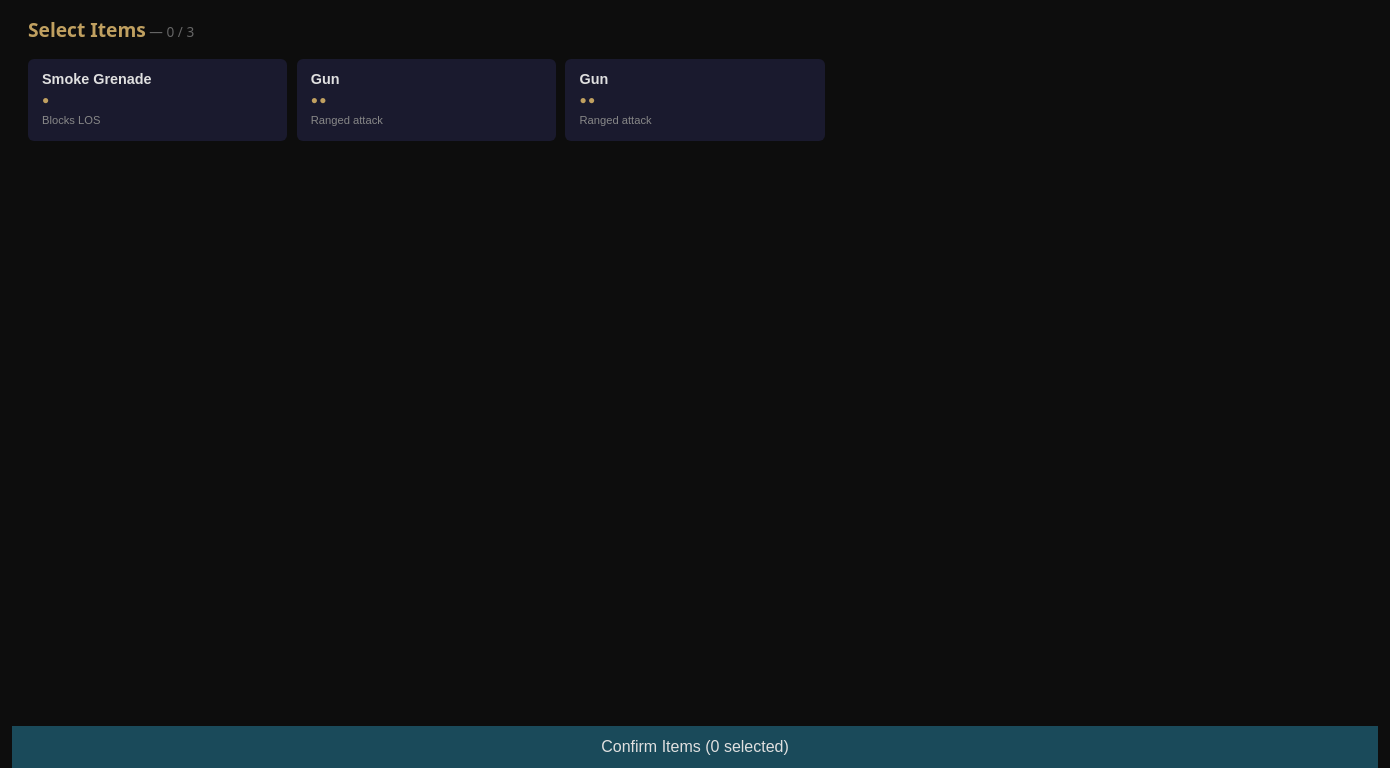
Test: SetupView › selecting an item increments the count display
Expected: the text "— 0 / 3" is shown, [146,22,194,41]
Click the button "Smoke Grenade ● Blocks LOS" at (158, 100), box [28,59,287,141]
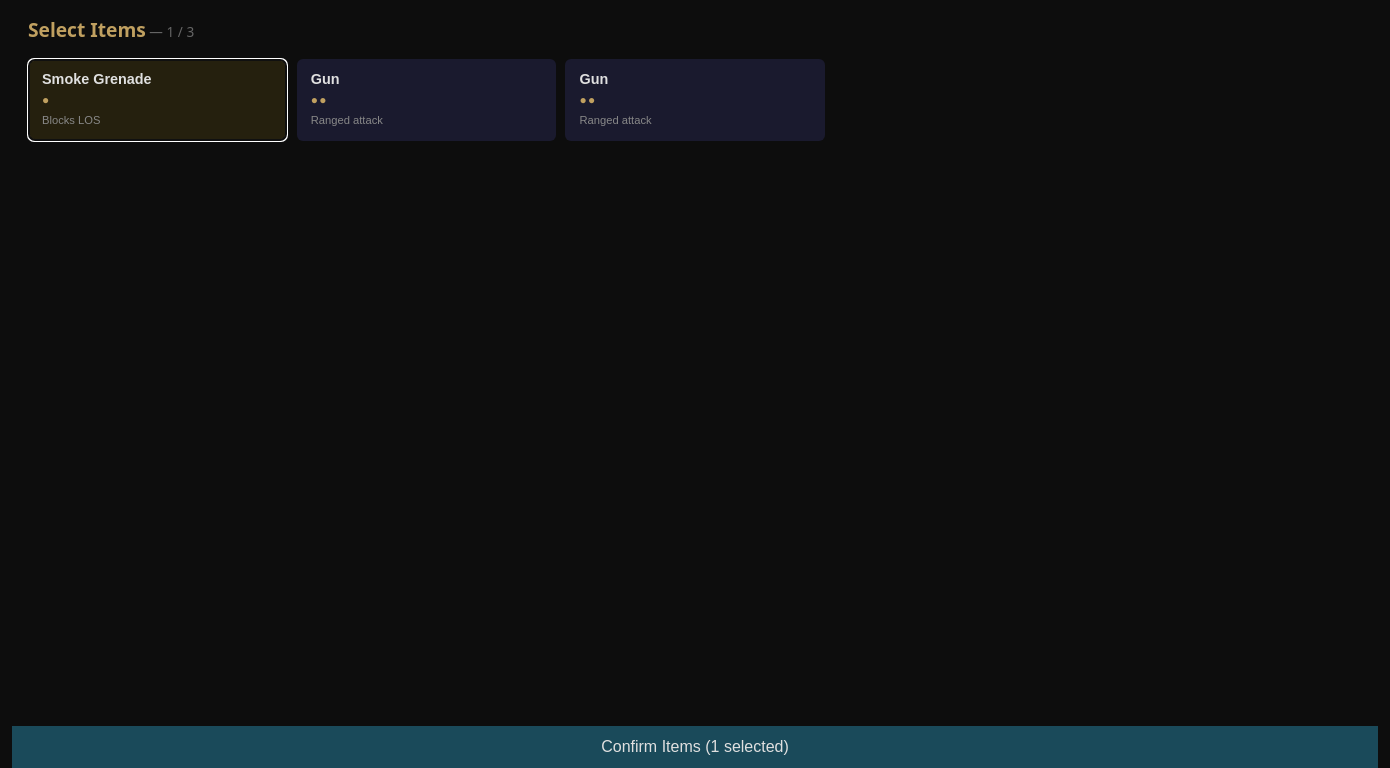
Expected: the text "— 1 / 3" is shown, [146,22,194,41]
